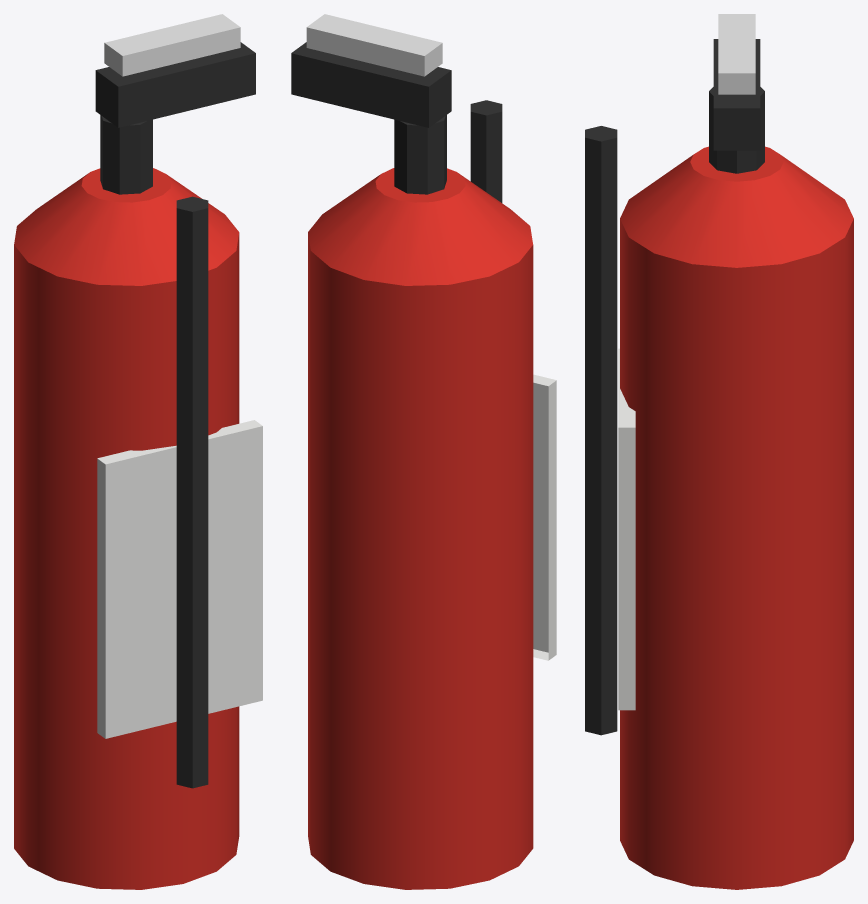
File: SM_Build_FireExtinguisher.fbx
3 views of the same model, side by side, from view 1: azimuth 30°, elevation 25°; view 2: azimuth 150°, elevation 25°; view 3: azimuth 270°, elevation 25° (orthographic). The views are drawn at different scales.
Visible parts, largest first — view 1: SM_Build_FireExtinguisher; view 2: SM_Build_FireExtinguisher; view 3: SM_Build_FireExtinguisher.
Part boxes in pixels (box(x1,y1,x2,y2)): SM_Build_FireExtinguisher: box(14, 14, 262, 889); SM_Build_FireExtinguisher: box(291, 14, 556, 889); SM_Build_FireExtinguisher: box(585, 14, 853, 889).
Bounding box in the file's own units: 0.165 × 0.58 × 0.1724.
